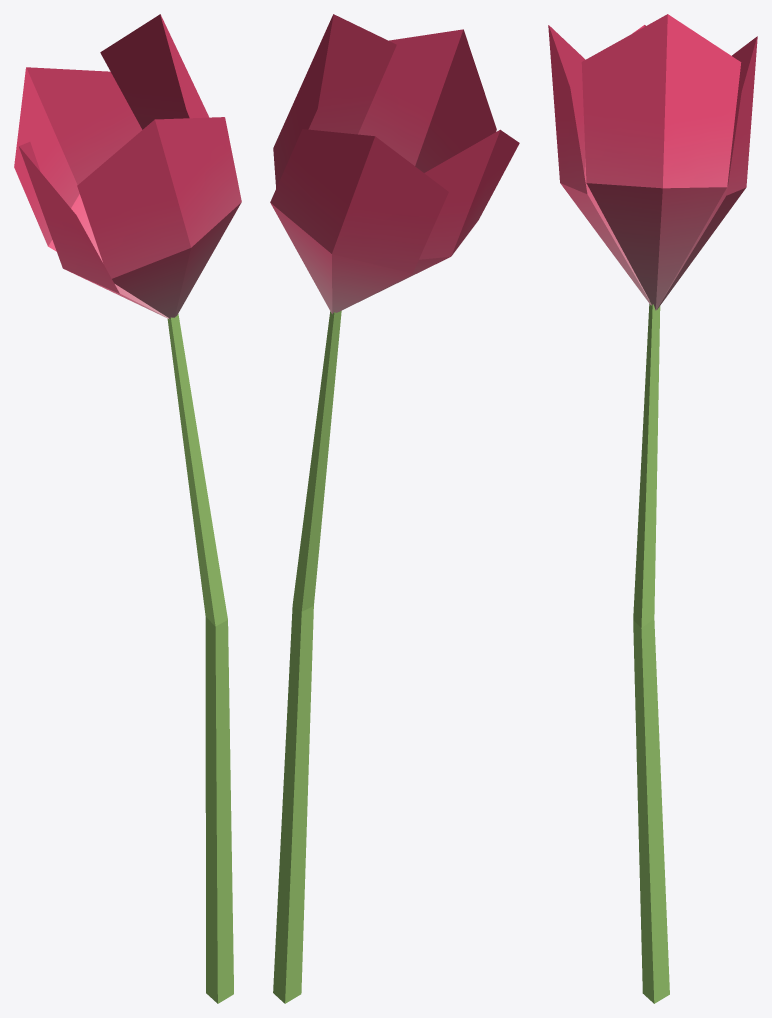
Rendered from Flower_f_TwoS_01.fbx.
The picture shows the model from 3 angles, left to right: view 1: azimuth 30°, elevation 25°; view 2: azimuth 150°, elevation 25°; view 3: azimuth 270°, elevation 25°; orthographic projection. The views are drawn at different scales.
Parts seen in each view (by area): view 1: Flower_f_TwoS_01; view 2: Flower_f_TwoS_01; view 3: Flower_f_TwoS_01.
Boxes of the visible parts, <box> form: Flower_f_TwoS_01: <box>14,14,241,1003</box>; Flower_f_TwoS_01: <box>270,14,519,1003</box>; Flower_f_TwoS_01: <box>548,14,757,1003</box>.
Bounding box in the file's own units: 13.51 × 58.04 × 11.5.
